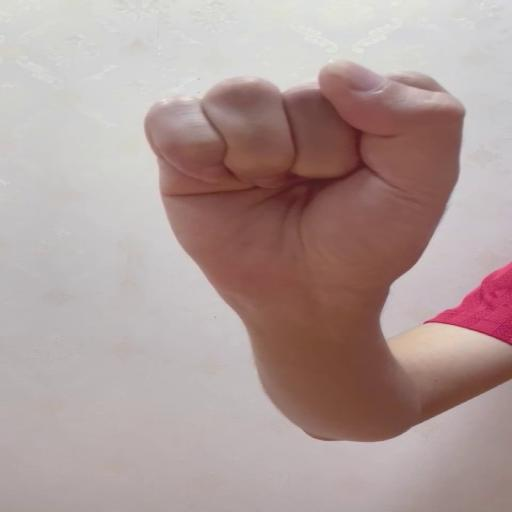fist: (144, 56, 468, 291)
